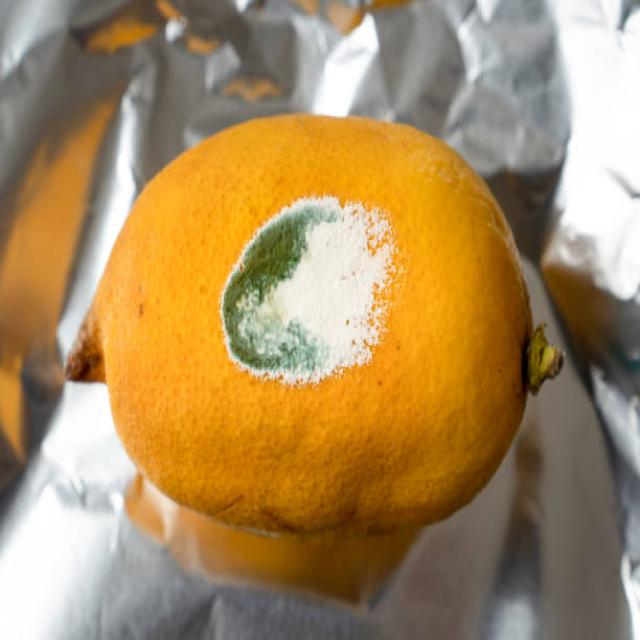Rotten: (65, 110, 564, 545)
